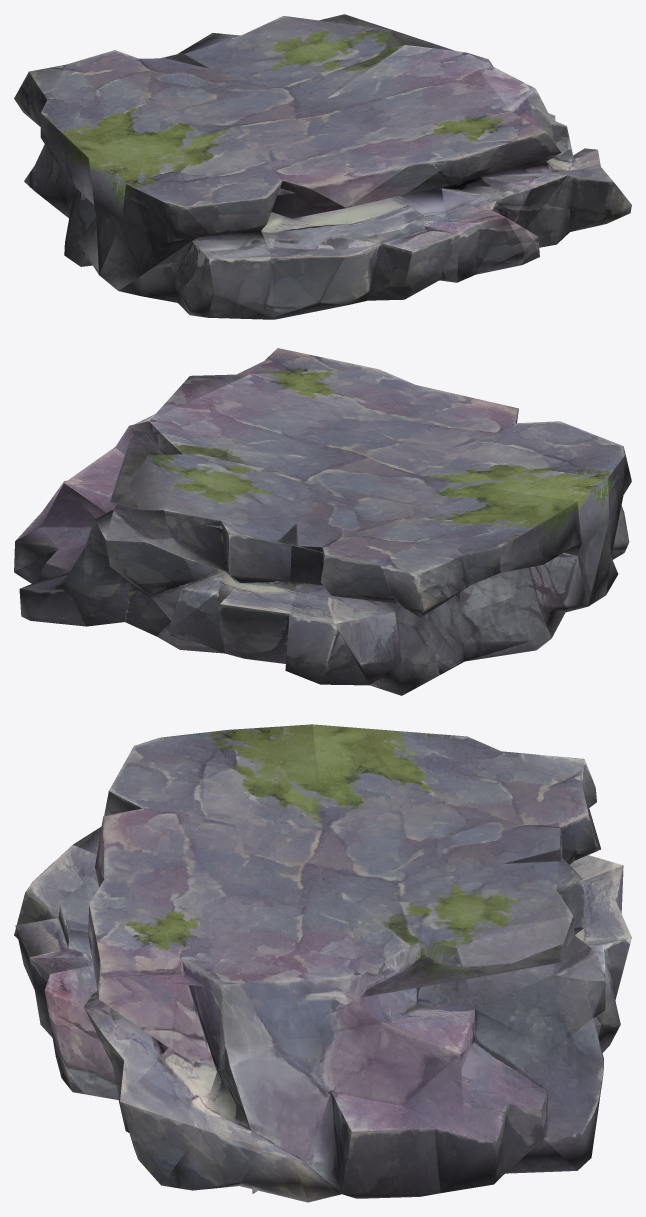
Rendered from source.glb.
3 renders of one model, top to bottom at view 1: azimuth 30°, elevation 25°; view 2: azimuth 150°, elevation 25°; view 3: azimuth 270°, elevation 25°, orthographic. The views are drawn at different scales.
Bounding box in the file's own units: 1 × 0.2939 × 0.8652.
Materials: 1 (1 with a texture image).
